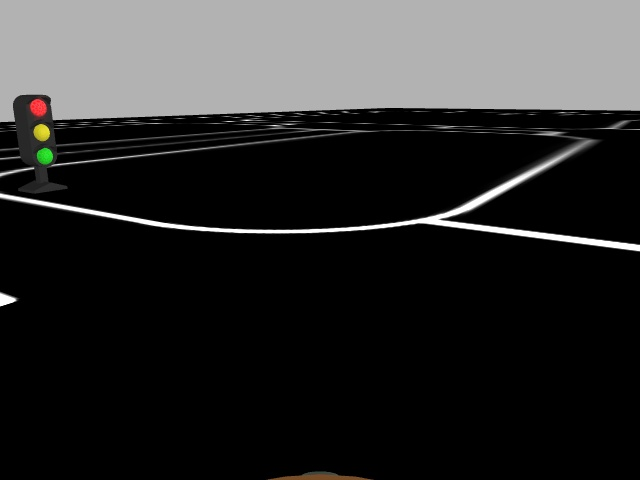red_light: (24, 95, 58, 167)
